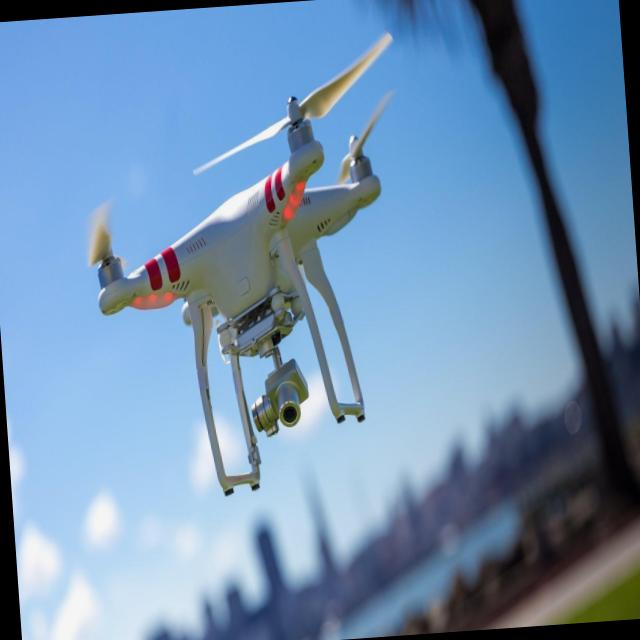drone: (81, 86, 406, 506)
